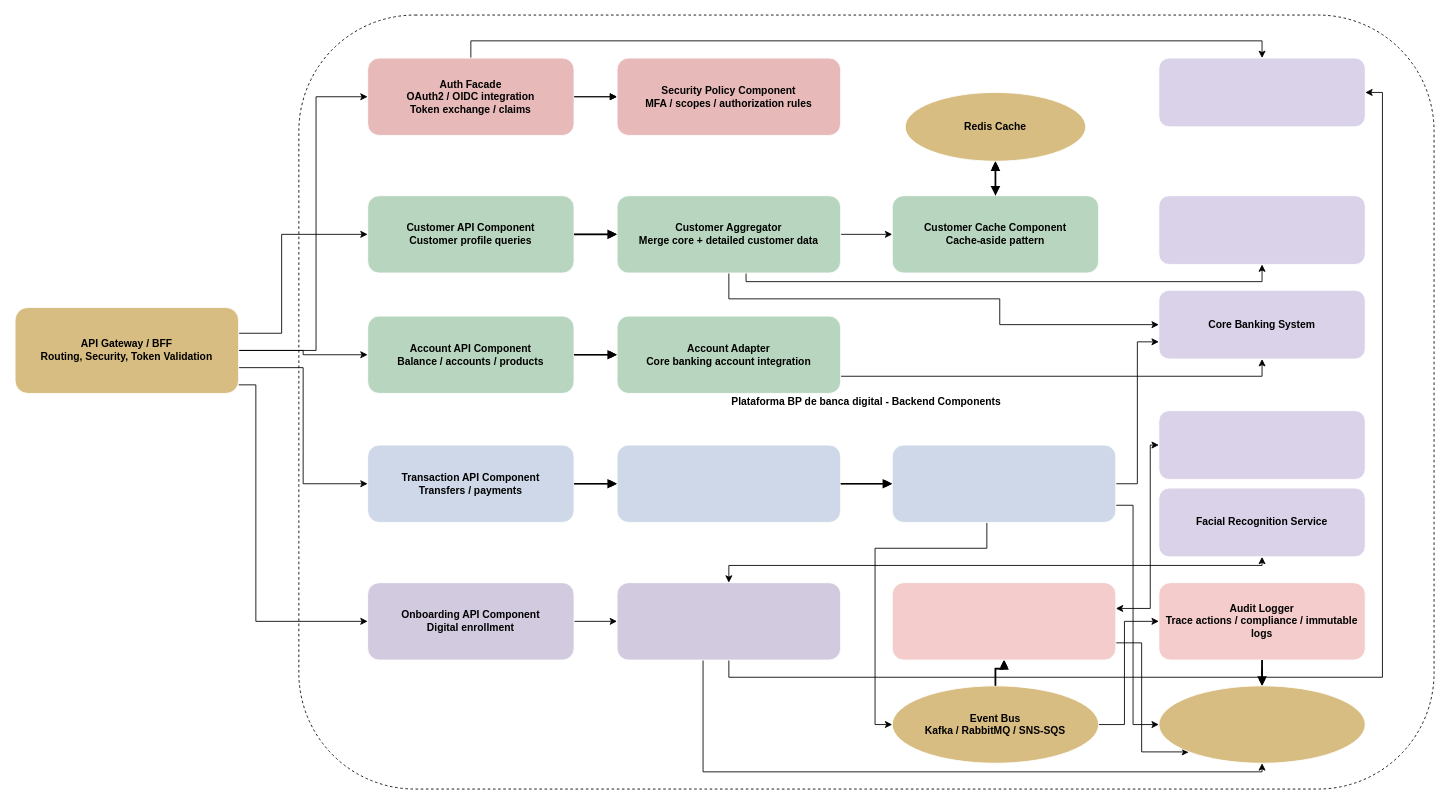
Image size: 1449x804. Some labels were removed from this diagram. Each missing label, with the box of its shape:
Biometric Workflow Component Face match / liveness / identity validation: (616, 582, 841, 660)
Customer Detail System: (1158, 195, 1365, 264)
Fraud / Risk Validator Limits / rules / validations: (616, 444, 841, 522)
Notification Composer Build SMS / email / push payloads: (891, 582, 1116, 660)
Notification Provider: (1158, 410, 1365, 479)
OAuth2 / OIDC IdP: (1158, 57, 1365, 127)
PostgreSQL DB: (1158, 685, 1365, 763)
Transfer Orchestrator Saga / compensation / sequencing: (891, 444, 1116, 522)
